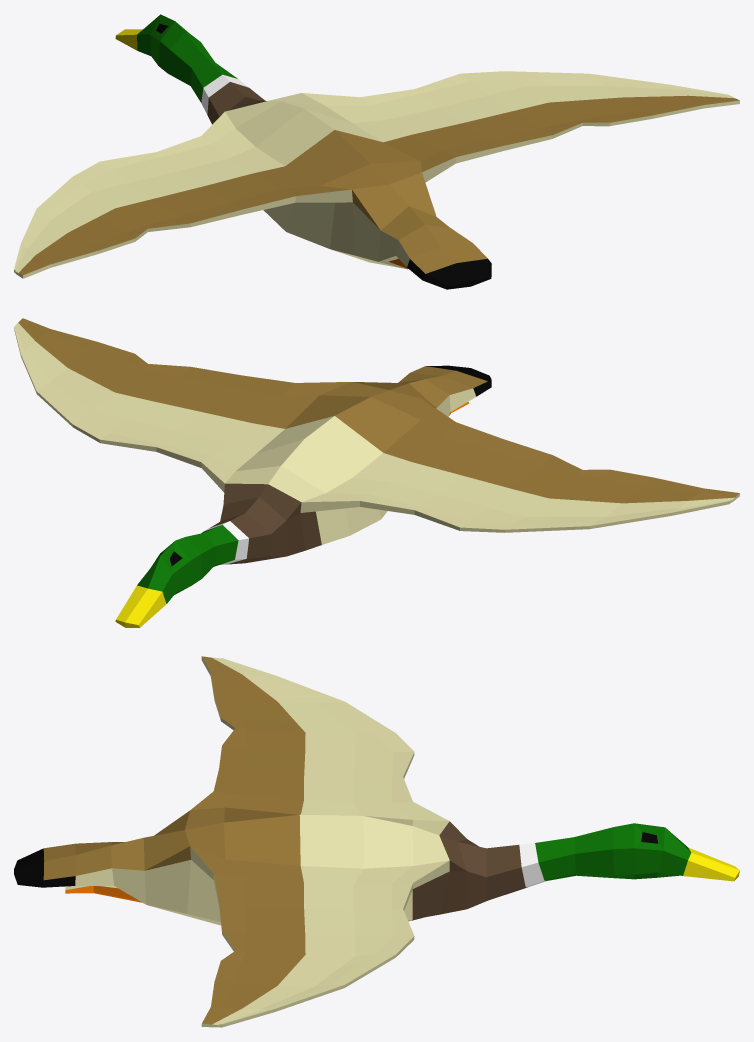
The model's file is Duck.fbx.
3 renders of one model, top to bottom at view 1: azimuth 30°, elevation 25°; view 2: azimuth 150°, elevation 25°; view 3: azimuth 270°, elevation 25°, orthographic. The views are drawn at different scales.
Visible parts, largest first — view 1: Duck; view 2: Duck; view 3: Duck.
Boxes of the visible parts, x1=… form: Duck: x1=14, y1=14, x2=739, y2=289; Duck: x1=14, y1=318, x2=739, y2=627; Duck: x1=14, y1=656, x2=739, y2=1027.
Bounding box in the file's own units: 2.26 × 0.3583 × 1.89.
